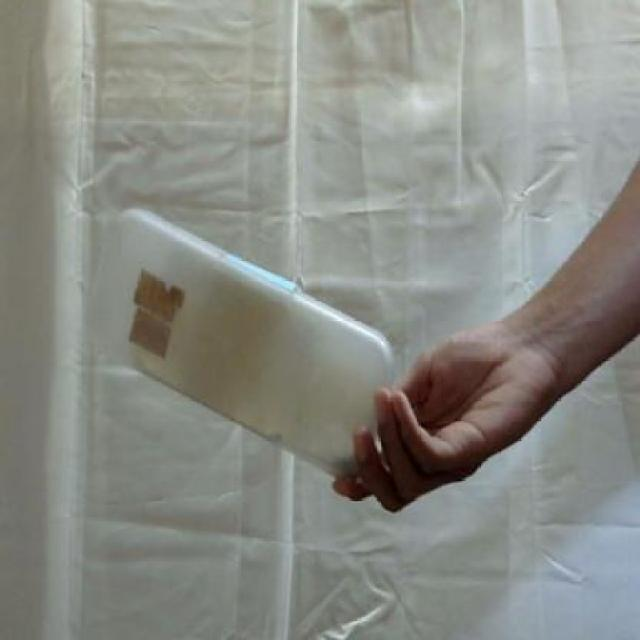Plastic: (86, 205, 394, 476)
